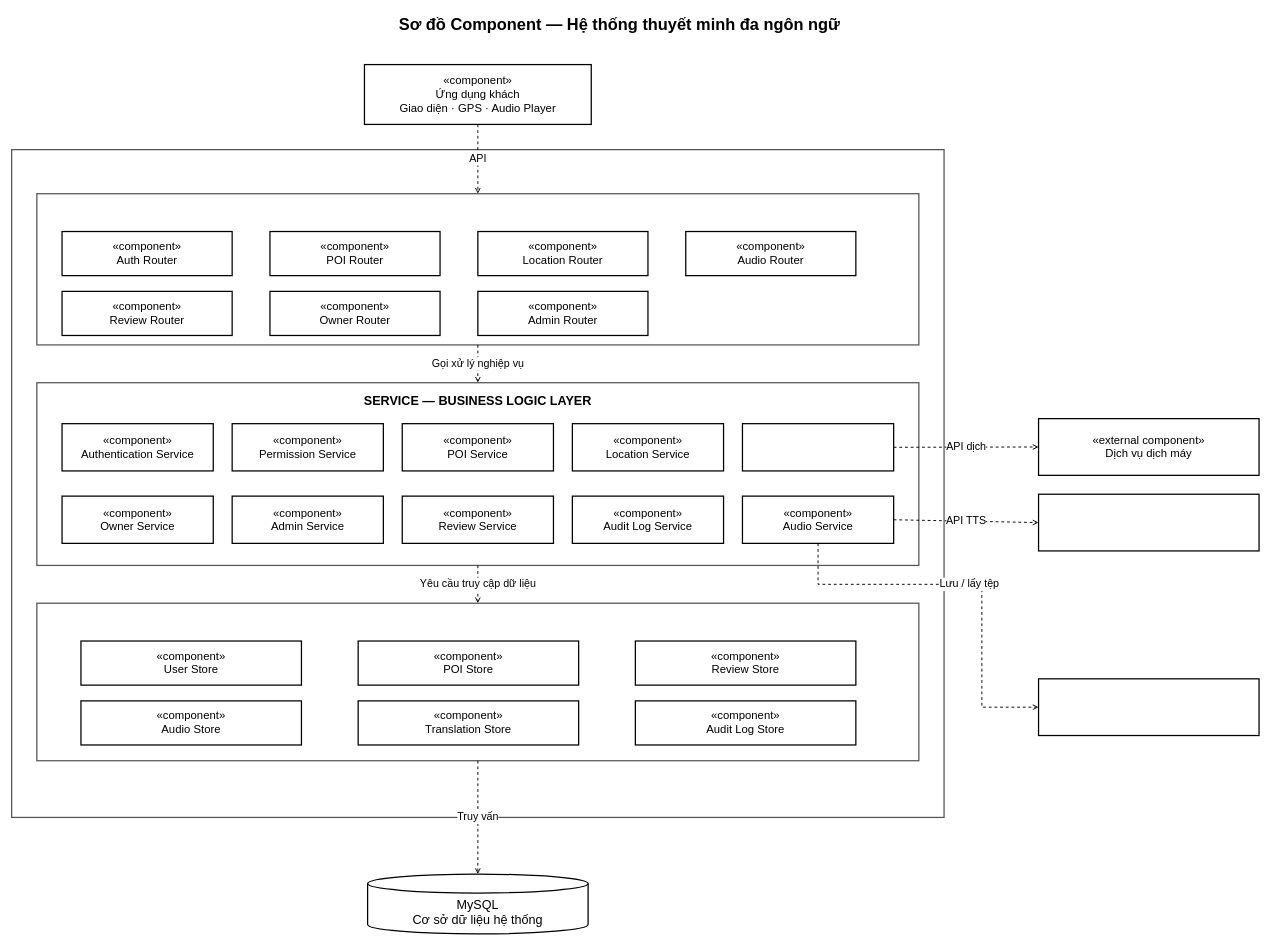
The diagram is 1270 pixels wide and 945 high, and some of its shapes have lost their labels. Here are the shapes that lost their labels. From the top down, the box of each, then its label:
(36, 193, 919, 345): ROUTER — PRESENTATION LAYER
(742, 423, 894, 471): «component» Translation Service
(11, 149, 944, 818): BACK-END — NODE.JS / EXPRESS
(1038, 493, 1259, 551): «external component» Dịch vụ TTS
(36, 602, 919, 761): STORE — DATA ACCESS LAYER
(1038, 678, 1259, 736): «external component» Kho lưu trữ audio
